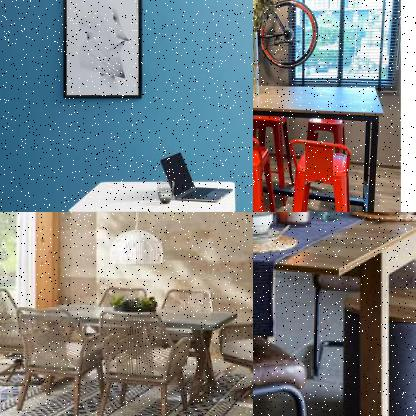table: (253, 212, 415, 415), (14, 296, 240, 413), (253, 71, 388, 211)
